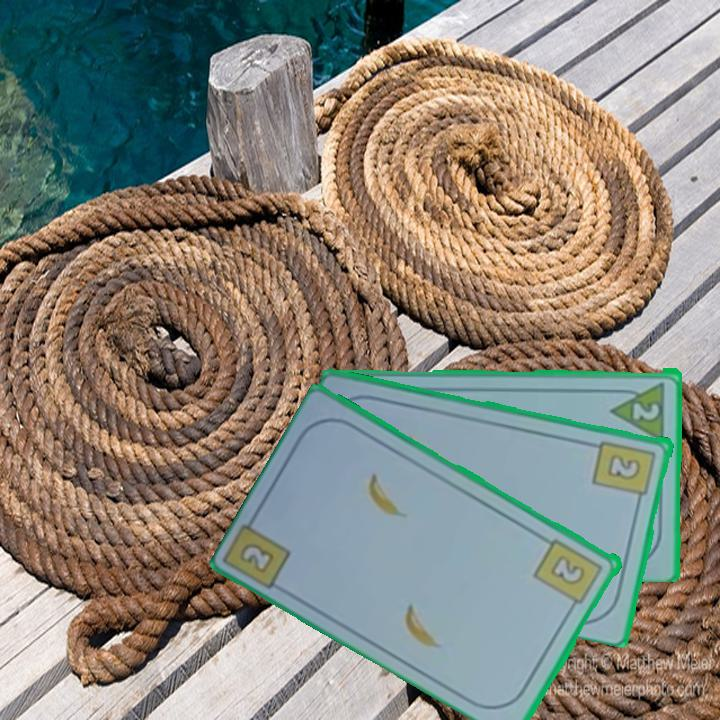2b: (530, 535, 607, 614), (590, 436, 659, 507), (236, 539, 278, 576)
2p: (609, 378, 668, 441)
